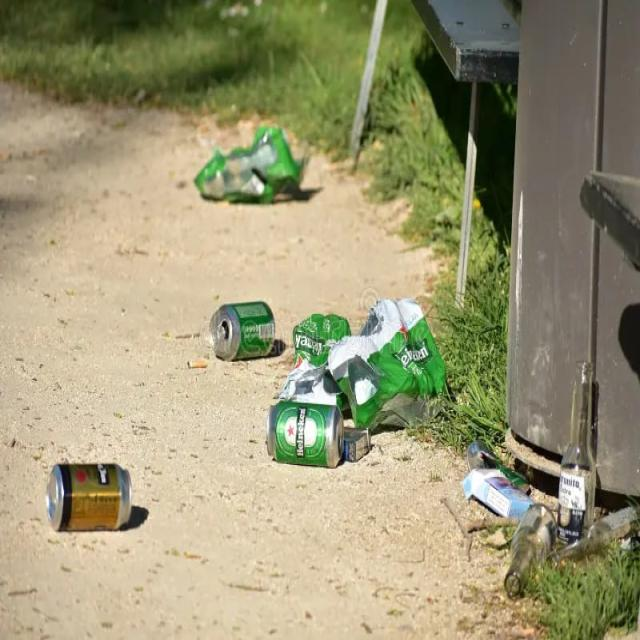can: (190, 270, 452, 501), (25, 449, 174, 545)
